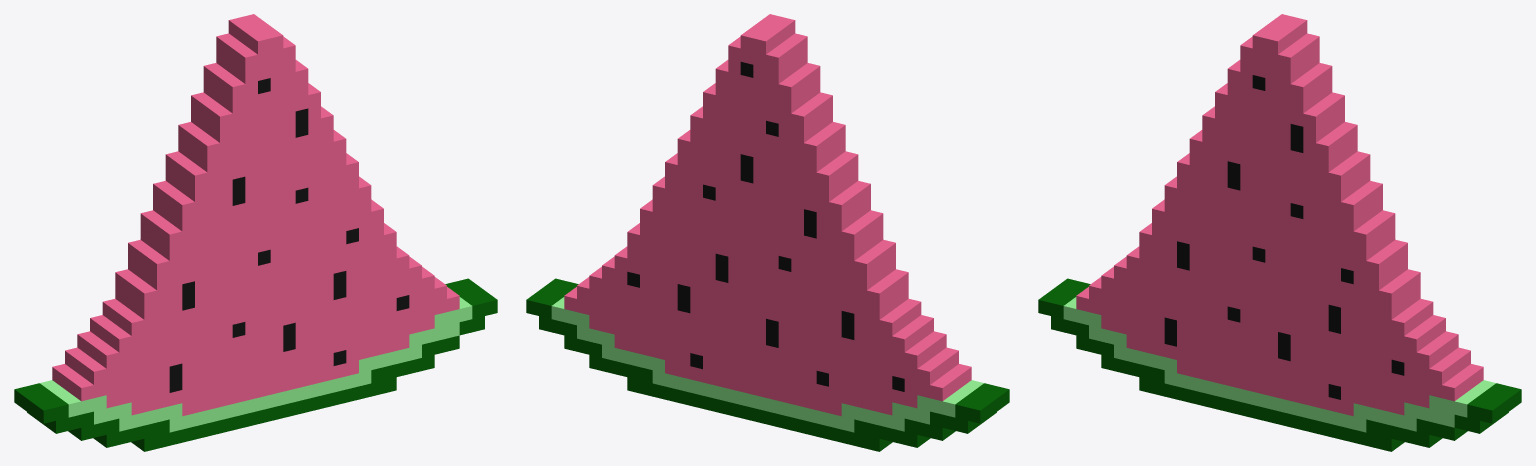
File: watermelon.obj
The picture shows the model from 3 angles, left to right: view 1: azimuth 30°, elevation 25°; view 2: azimuth 150°, elevation 25°; view 3: azimuth 330°, elevation 25°; orthographic projection.
Bounding box in the file's own units: 3.6 × 2.9 × 0.4.
1 material, 1 textured.
